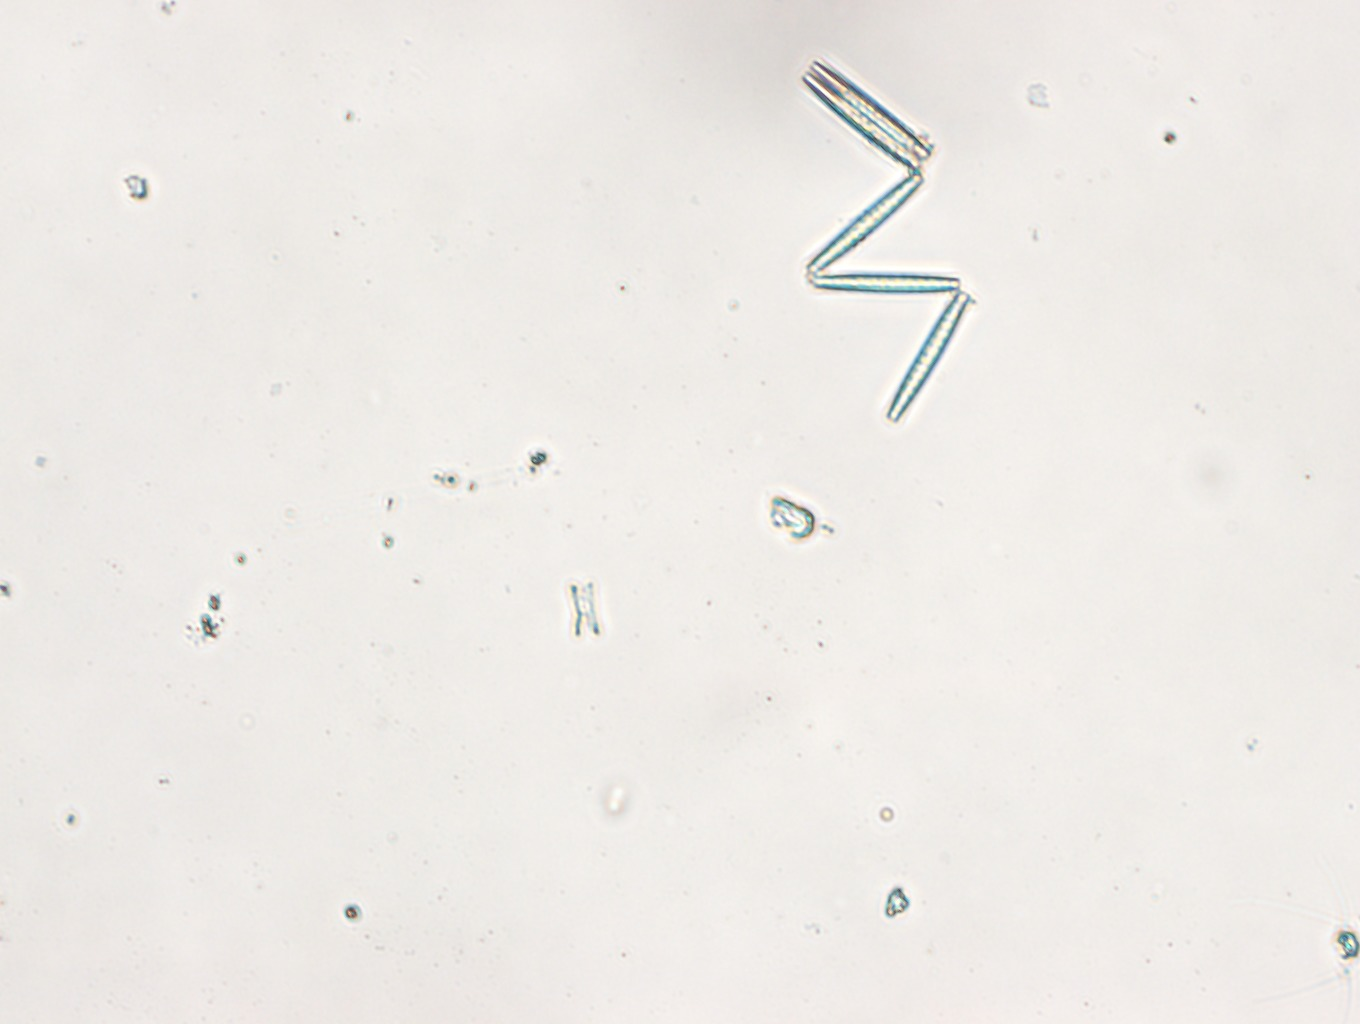thalassionema nitzschioides: (796, 60, 969, 422)
